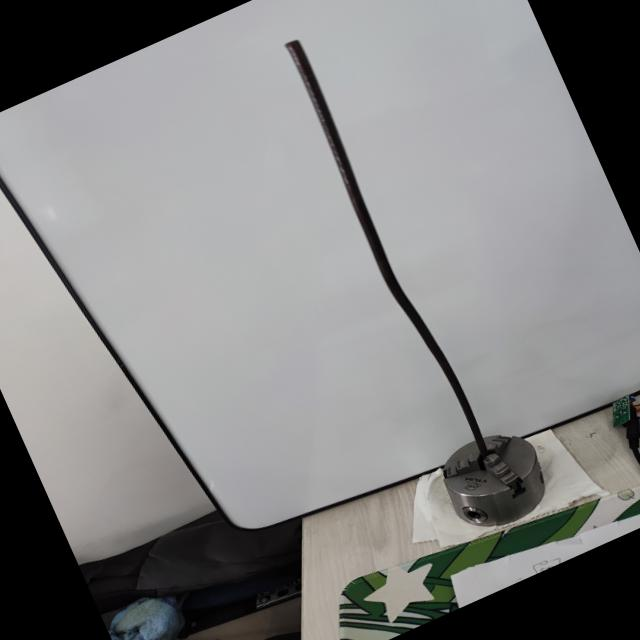plain round bar: (270, 27, 498, 461)
